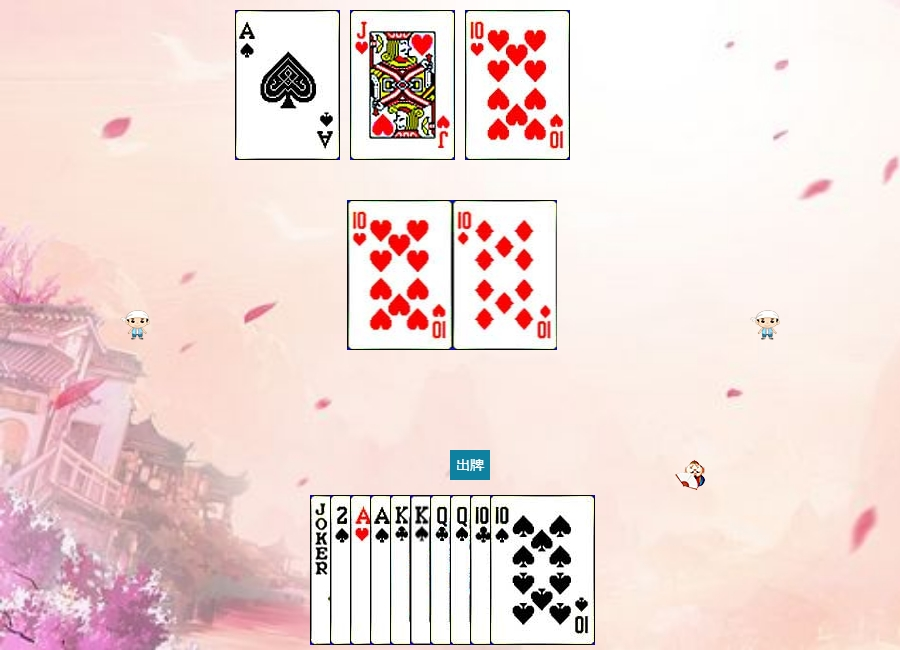10~1: (453, 200, 558, 350)
10~2: (470, 495, 575, 645)
10~3: (465, 10, 570, 160), (348, 200, 453, 350)
10~4: (490, 495, 595, 645)
11~3: (350, 10, 455, 160)
12~2: (430, 495, 535, 645)
12~4: (450, 495, 555, 645)
13~2: (390, 495, 495, 645)
13~4: (410, 495, 515, 645)
14~3: (350, 495, 455, 645)
14~4: (235, 10, 340, 160), (370, 495, 475, 645)
15~4: (330, 495, 435, 645)
17~3: (310, 495, 415, 645)
